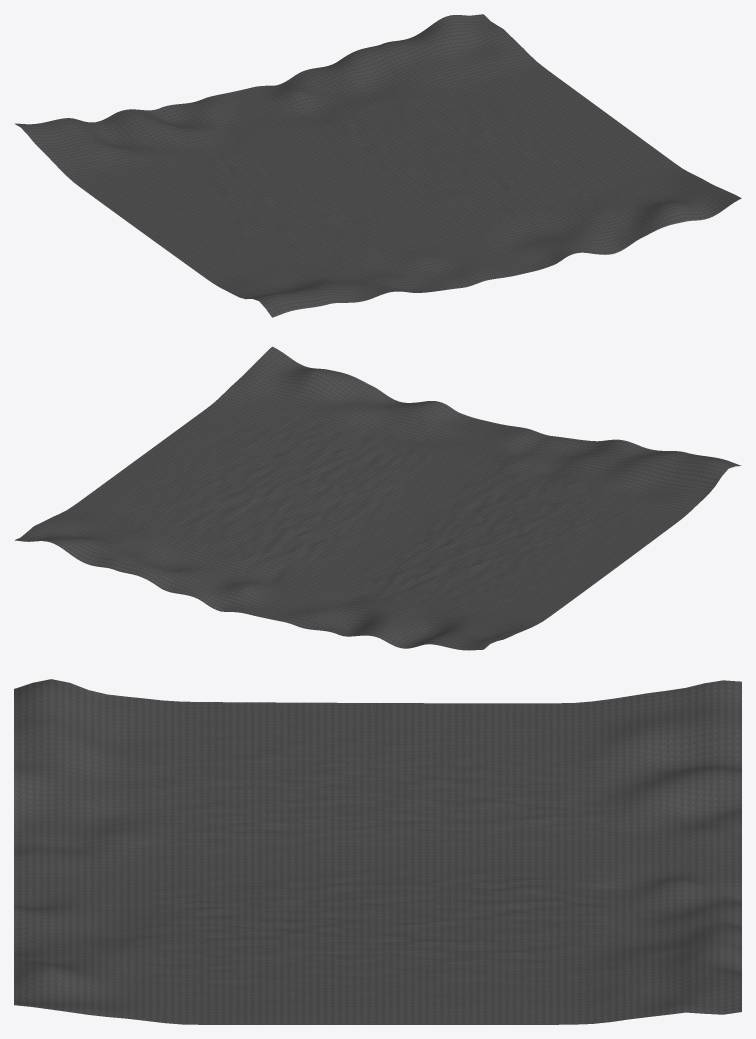
Rendered from AITerrain_02_CITY.obj.
3 renders of one model, top to bottom at view 1: azimuth 30°, elevation 25°; view 2: azimuth 150°, elevation 25°; view 3: azimuth 270°, elevation 25°, orthographic. The views are drawn at different scales.
Parts seen in each view (by area): view 1: AITerrain_02_CITY; view 2: AITerrain_02_CITY; view 3: AITerrain_02_CITY.
Part boxes in pixels (x1,y1,x2,y2): AITerrain_02_CITY: (14, 14, 741, 317); AITerrain_02_CITY: (15, 346, 741, 650); AITerrain_02_CITY: (14, 679, 741, 1024).
Size of the model in its own units: 1050 by 63.08 by 1000.
1 material, 1 textured.
